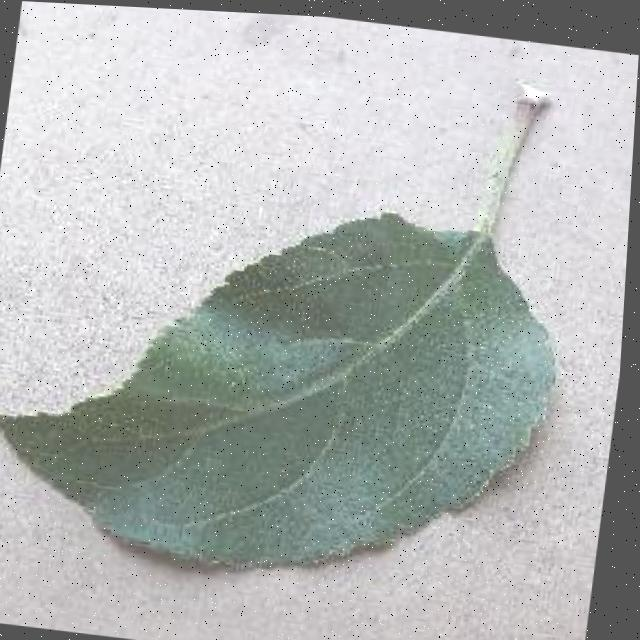healthy: (0, 143, 591, 623)
